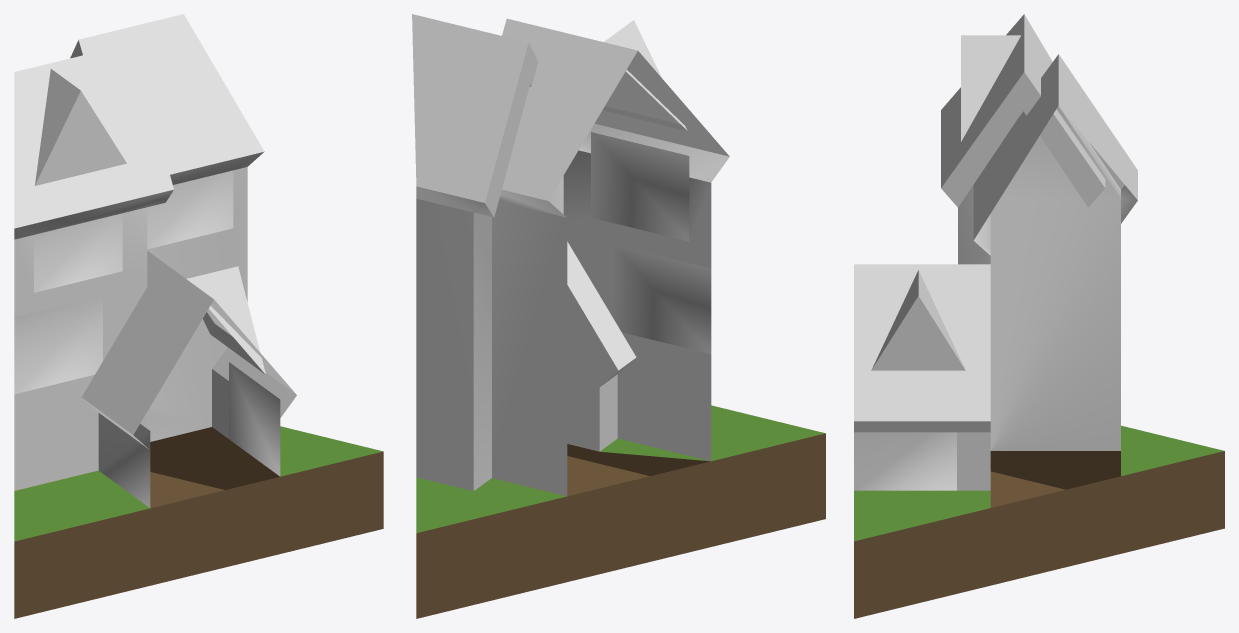
Rendered from Pis_Interseccio_CE_PE_PE.fbx.
The picture shows the model from 3 angles, left to right: view 1: azimuth 30°, elevation 25°; view 2: azimuth 150°, elevation 25°; view 3: azimuth 270°, elevation 25°; orthographic projection. The views are drawn at different scales.
Parts seen in each view (by area): view 1: Pis_Interseccio_CE_PE_PE, DetallParet.091, DetallTeulada.037, DetallParet.095, DetallParet.096, DetallParet.089, DetallTeulada.045, DetallParet.097; view 2: Pis_Interseccio_CE_PE_PE, DetallParet.095, DetallParet.091, DetallTeulada.037; view 3: Pis_Interseccio_CE_PE_PE, DetallParet.089, DetallTeulada.045, DetallTeulada.037.
Boxes of the visible parts, bbox=[...] form: Pis_Interseccio_CE_PE_PE: bbox=[14, 14, 383, 618]; DetallParet.091: bbox=[14, 295, 102, 394]; DetallTeulada.037: bbox=[35, 69, 126, 185]; DetallParet.095: bbox=[34, 213, 122, 292]; DetallParet.096: bbox=[147, 170, 233, 249]; DetallParet.089: bbox=[229, 362, 280, 476]; DetallTeulada.045: bbox=[186, 266, 265, 374]; DetallParet.097: bbox=[99, 413, 150, 507]; Pis_Interseccio_CE_PE_PE: bbox=[412, 14, 825, 618]; DetallParet.095: bbox=[591, 132, 689, 241]; DetallParet.091: bbox=[613, 244, 711, 353]; DetallTeulada.037: bbox=[603, 20, 687, 130]; Pis_Interseccio_CE_PE_PE: bbox=[854, 14, 1224, 618]; DetallParet.089: bbox=[854, 432, 956, 490]; DetallTeulada.045: bbox=[871, 270, 965, 370]; DetallTeulada.037: bbox=[961, 35, 1020, 141].
Size of the model in its own units: 100 by 120 by 86.6.
